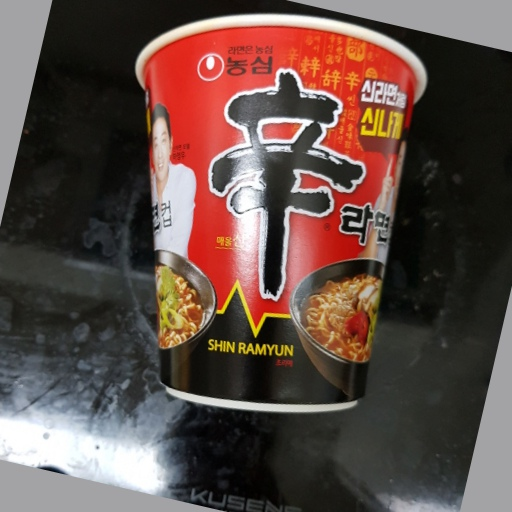Paper_1: (127, 15, 428, 417)
